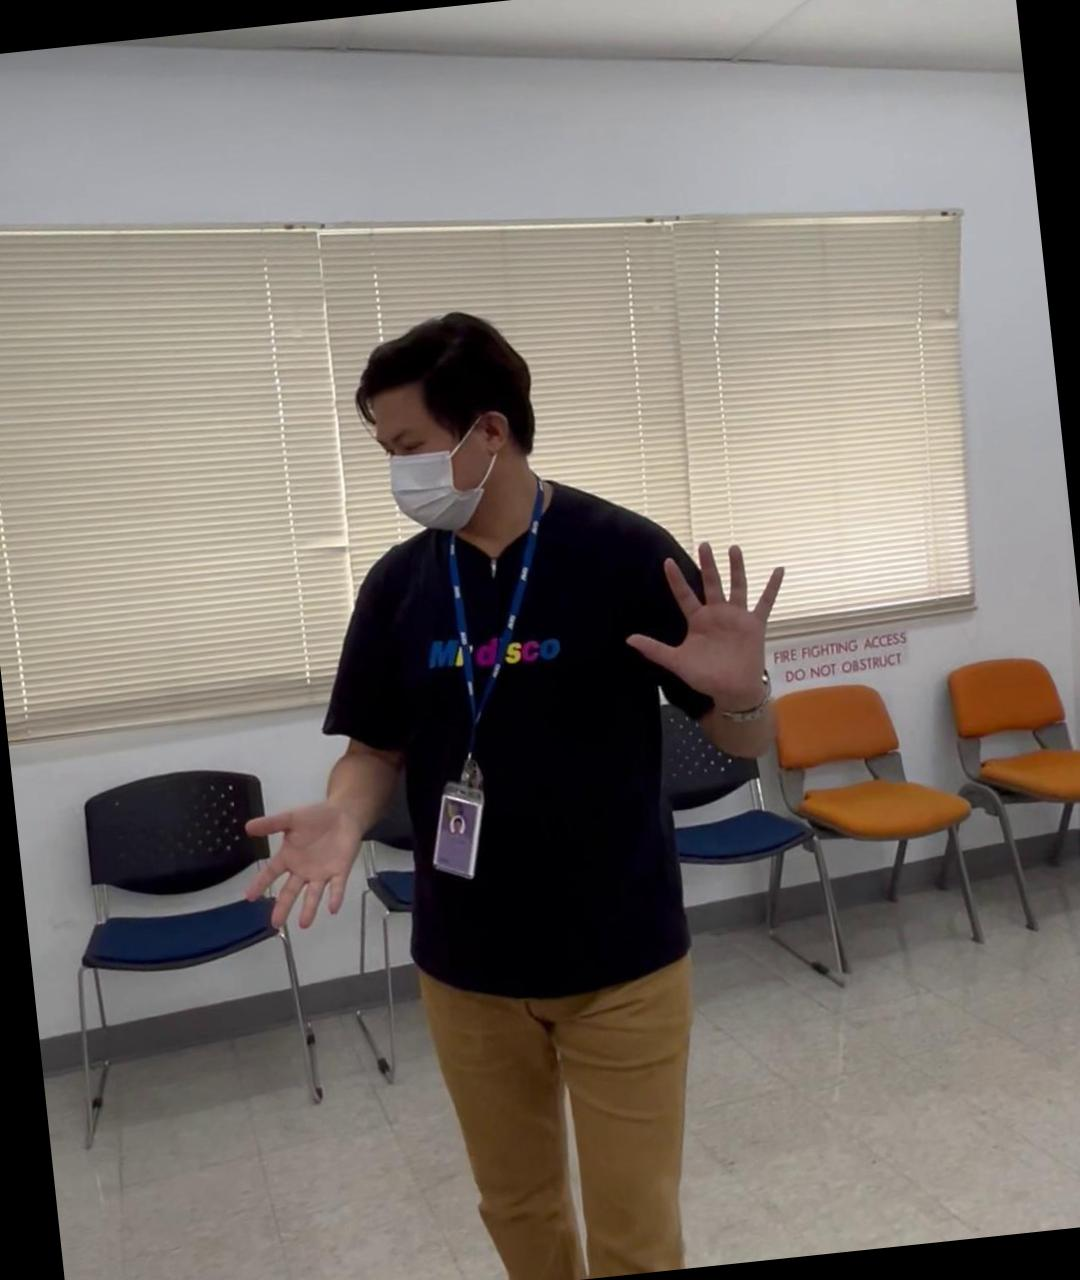No-gloves: (613, 530, 796, 716), (234, 786, 375, 940)
